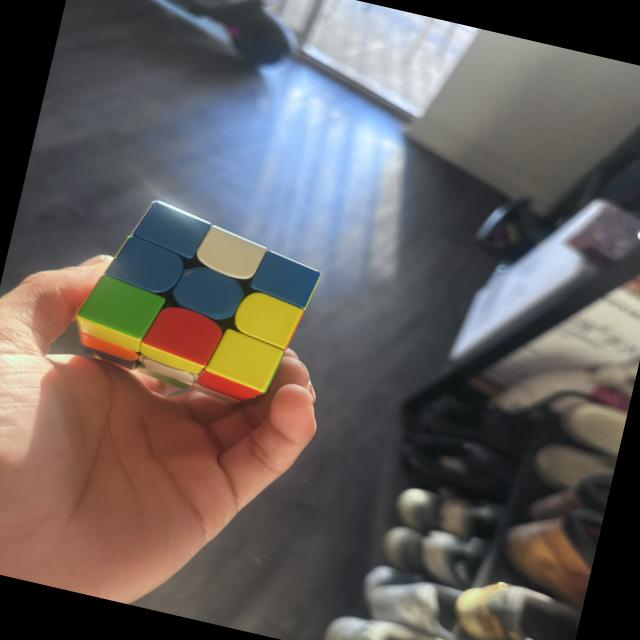sticker: (75, 274, 165, 342), (142, 302, 225, 366), (168, 262, 250, 326), (205, 328, 283, 393), (106, 235, 189, 296), (228, 287, 303, 350), (132, 200, 211, 259), (192, 224, 267, 283), (250, 249, 321, 307)
